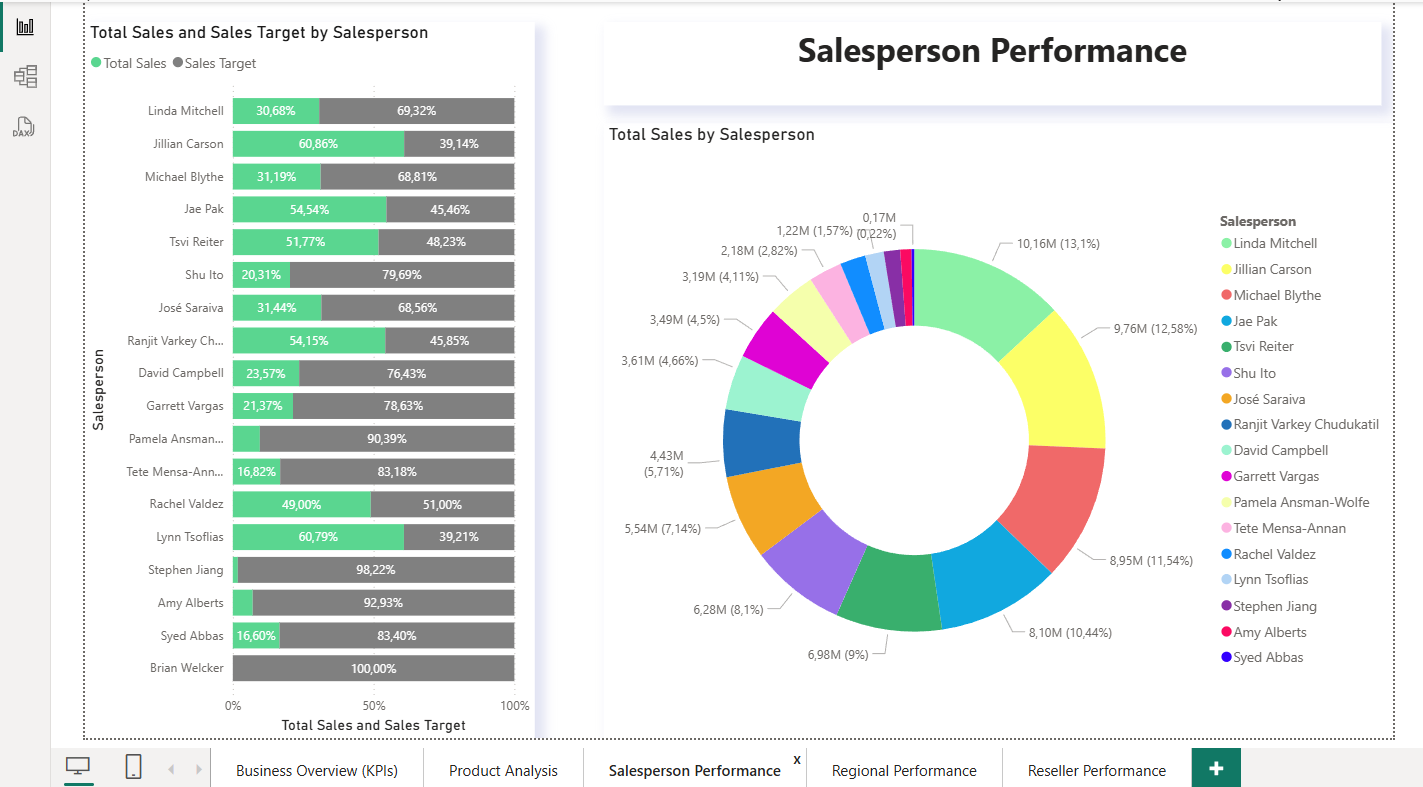

What the dashboard file says about the page in this screenshot:
{"tool":"powerbi","page":{"name":"Salesperson Performance","canvas":[1280,720],"ordinal":2},"visuals":[{"type":"hundredPercentStackedBarChart","fields":{"Category":["DimSalesperson.Salesperson"],"Y":["FactSales.Total Sales","FactSales.Sales Target"]},"box":[0,19.6,440.2,700.7],"z":0},{"type":"donutChart","fields":{"Category":["DimSalesperson.Salesperson"],"Y":["FactSales.Total Sales"]},"box":[507.5,118.6,772.8,601.6],"z":1000},{"type":"textbox","box":[507.5,19.6,760.6,81.9],"z":2000}]}

Visuals, with their boxes on the page's 1280x720 design canvas (x1, y1, x2, y2). These are canvas units, not pixel positions in the 1423x787 screenshot, which may show the page scaled, cropped or inside an application window:
hundredPercentStackedBarChart - DimSalesperson.Salesperson x FactSales.Total Sales: x1=0 y1=20 x2=440 y2=720
donutChart - DimSalesperson.Salesperson x FactSales.Total Sales: x1=508 y1=119 x2=1280 y2=720
textbox: x1=508 y1=20 x2=1268 y2=102
